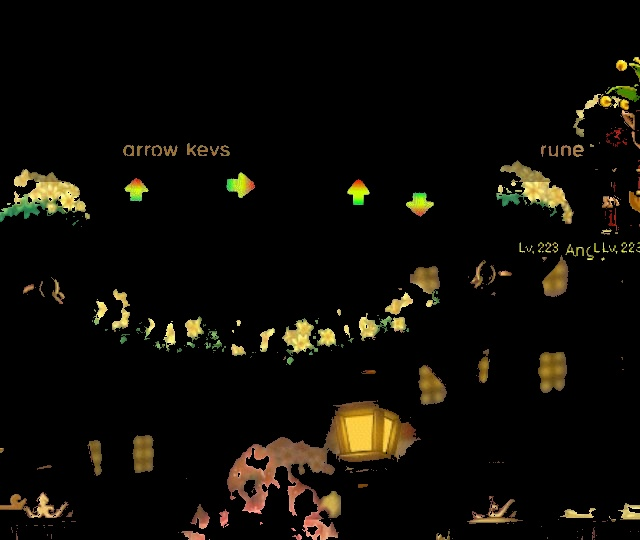down: (397, 184, 437, 227)
right: (218, 168, 262, 207)
up: (339, 171, 374, 210), (116, 171, 153, 206)
